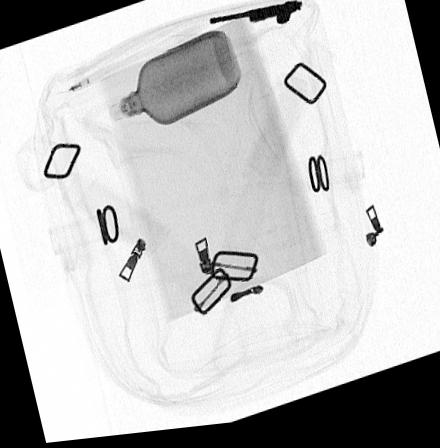Gun: (207, 6, 304, 30)
